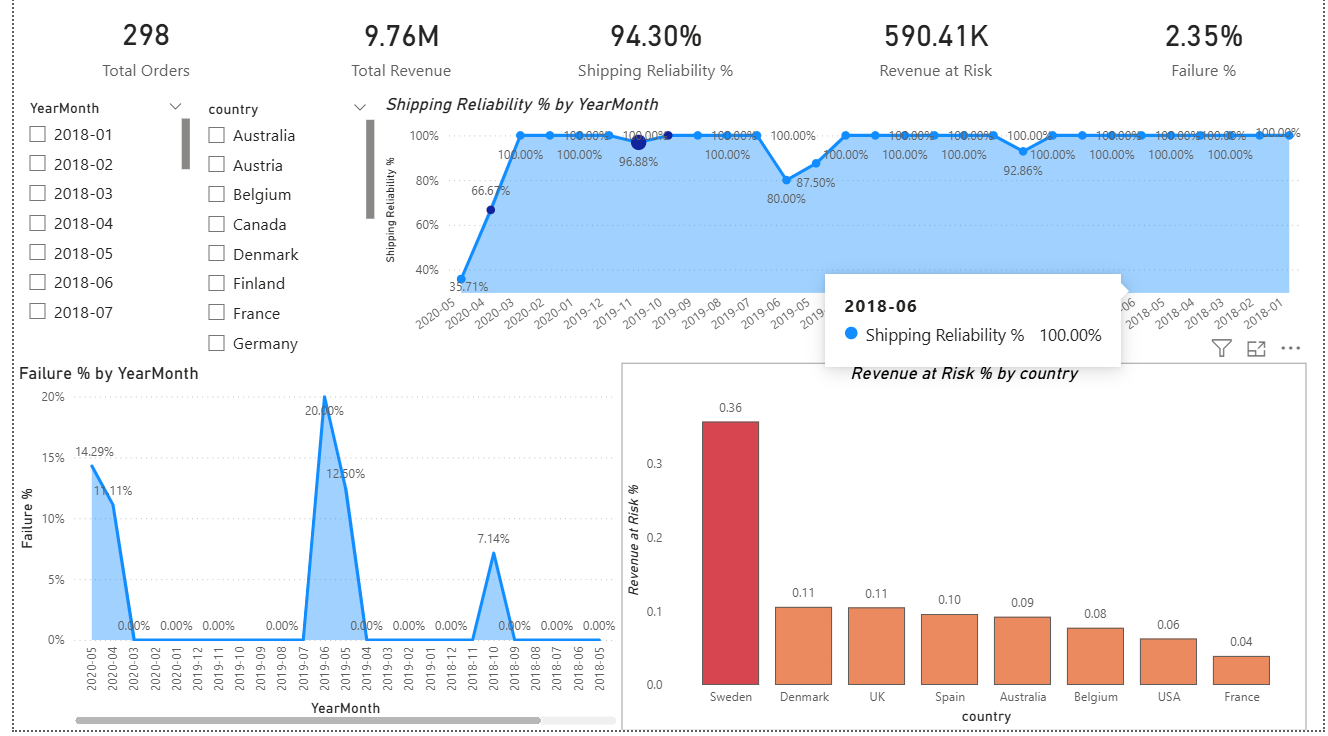

What the dashboard file says about the page in this screenshot:
{"tool":"powerbi","page":{"name":"Operations Overview","canvas":[1280,720],"ordinal":0},"visuals":[{"type":"slicer","fields":{"Values":["DimDate.YearMonth"]},"box":[2.9,98.1,174.6,235.2],"z":0},{"type":"slicer","fields":{"Values":["gold_order_ops_fact.country"]},"box":[177.5,99.6,180.3,261.1],"z":1000},{"type":"card","fields":{"Values":["_Measures.Total Orders"]},"box":[0,0,258.7,98.7],"z":2000},{"type":"card","fields":{"Values":["_Measures.Total Revenue"]},"box":[258,0,242.1,99],"z":3000},{"type":"card","fields":{"Values":["_KPI Measures.Shipping Reliability %"]},"box":[500.1,0,255.6,99],"z":4000},{"type":"card","fields":{"Values":["_KPI Measures.Failure %"]},"box":[1048,0,232.3,99],"z":5000},{"type":"card","fields":{"Values":["_KPI Measures.Revenue at Risk"]},"box":[755.7,0,292.3,99],"z":6000},{"type":"lineChart","fields":{"Category":["DimDate.YearMonth"],"Y":["_KPI Measures.Shipping Reliability %"]},"box":[357.8,98.1,906.1,262.6],"z":7000},{"type":"lineChart","fields":{"Category":["DimDate.YearMonth"],"Y":["_KPI Measures.Failure %"]},"box":[0,360.7,594.4,359.2],"z":8000},{"type":"clusteredColumnChart","fields":{"Category":["gold_order_ops_fact.country"],"Y":["_KPI Measures.Revenue at Risk %"]},"box":[594.4,360.7,669.4,359.2],"z":9000}]}

Visuals, with their boxes in screenshot pixels (x1, y1, x2, y2), scaled from the page's 1280x720 canvas onto the 1328x736 screenshot:
slicer - DimDate.YearMonth: (x1=3, y1=100, x2=184, y2=341)
slicer - gold_order_ops_fact.country: (x1=184, y1=102, x2=371, y2=369)
card - _Measures.Total Orders: (x1=0, y1=0, x2=268, y2=101)
card - _Measures.Total Revenue: (x1=268, y1=0, x2=519, y2=101)
card - _KPI Measures.Shipping Reliability %: (x1=519, y1=0, x2=784, y2=101)
card - _KPI Measures.Failure %: (x1=1087, y1=0, x2=1327, y2=101)
card - _KPI Measures.Revenue at Risk: (x1=784, y1=0, x2=1087, y2=101)
lineChart - DimDate.YearMonth x _KPI Measures.Shipping Reliability %: (x1=371, y1=100, x2=1311, y2=369)
lineChart - DimDate.YearMonth x _KPI Measures.Failure %: (x1=0, y1=369, x2=617, y2=735)
clusteredColumnChart - gold_order_ops_fact.country x _KPI Measures.Revenue at Risk %: (x1=617, y1=369, x2=1311, y2=735)
